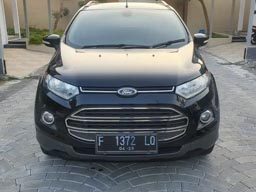plat: (93, 132, 160, 145)
